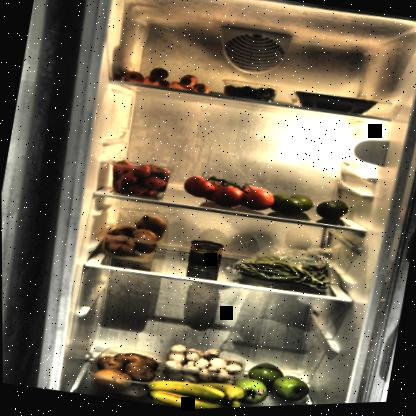apple: (228, 356, 312, 408)
banana: (140, 371, 245, 411)
blueberries: (218, 77, 282, 107)
carrot: (117, 55, 218, 103)
corn: (185, 239, 224, 272)
green_beans: (229, 235, 345, 301)
lime: (266, 190, 351, 229)
mushrooms: (159, 339, 250, 396)
onion: (98, 209, 169, 268)
potato: (92, 340, 163, 396)
strawberries: (106, 156, 174, 204)
tomato: (178, 167, 279, 220)
